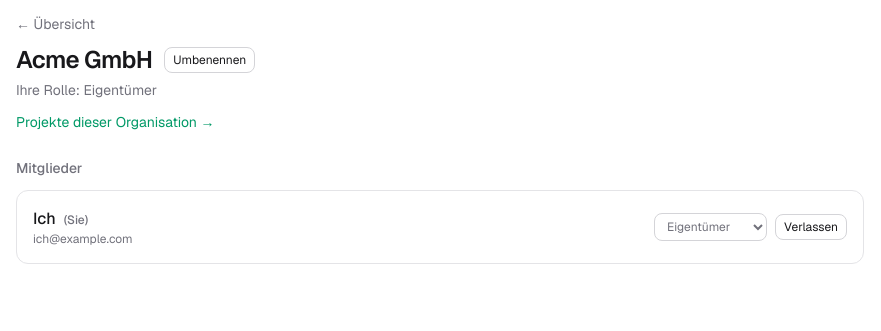
Scenario: Organisationsdetailseite › zeigt die Serverbegruendung, wenn der letzte OWNER bleiben muss
Select "Mitglied" in the dropdown named "Rolle von ich" at (711, 227), box left=654, top=213, right=767, bottom=241
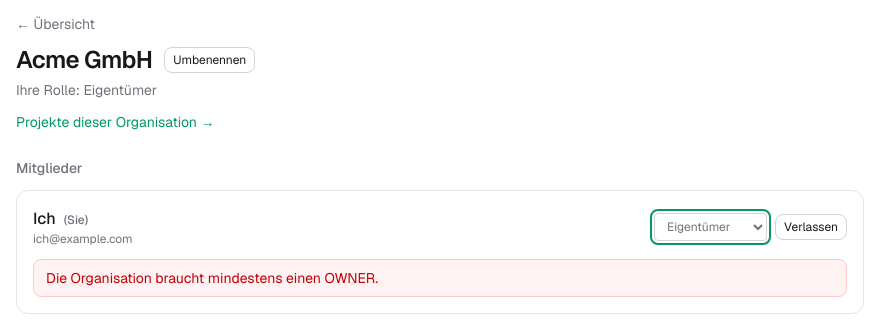
Result: the text "Die Organisation braucht mindestens einen OWNER." is shown at left=33, top=259, right=847, bottom=297
